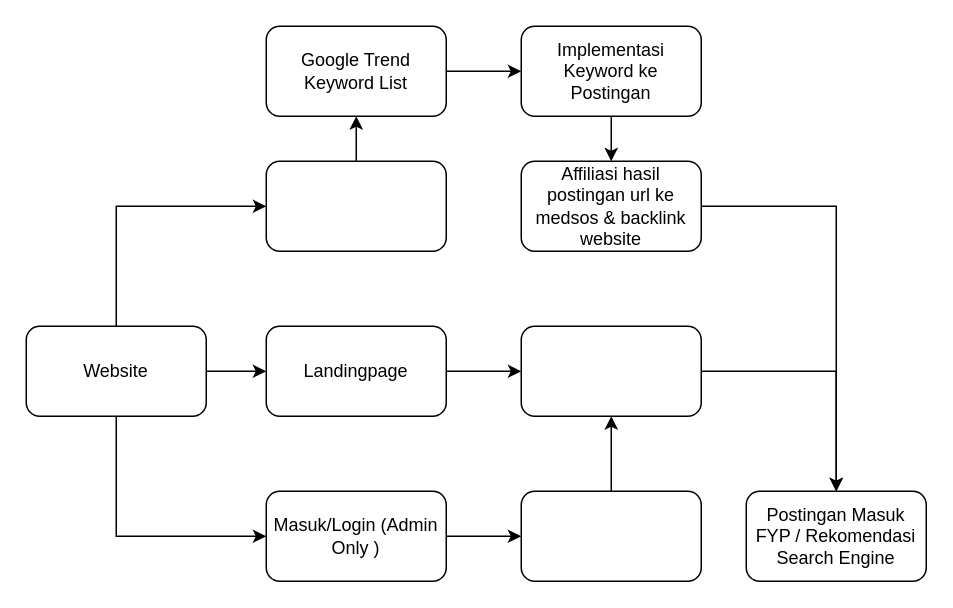
This 953x608 diagram has some shape labels left out. The box of each missing label's shape, as (x1, y1, x2, y2) in pixels:
Hasil Postingan: (520, 325, 701, 416)
Posting: (520, 490, 701, 581)
Search Engine Optimization: (265, 160, 446, 251)
